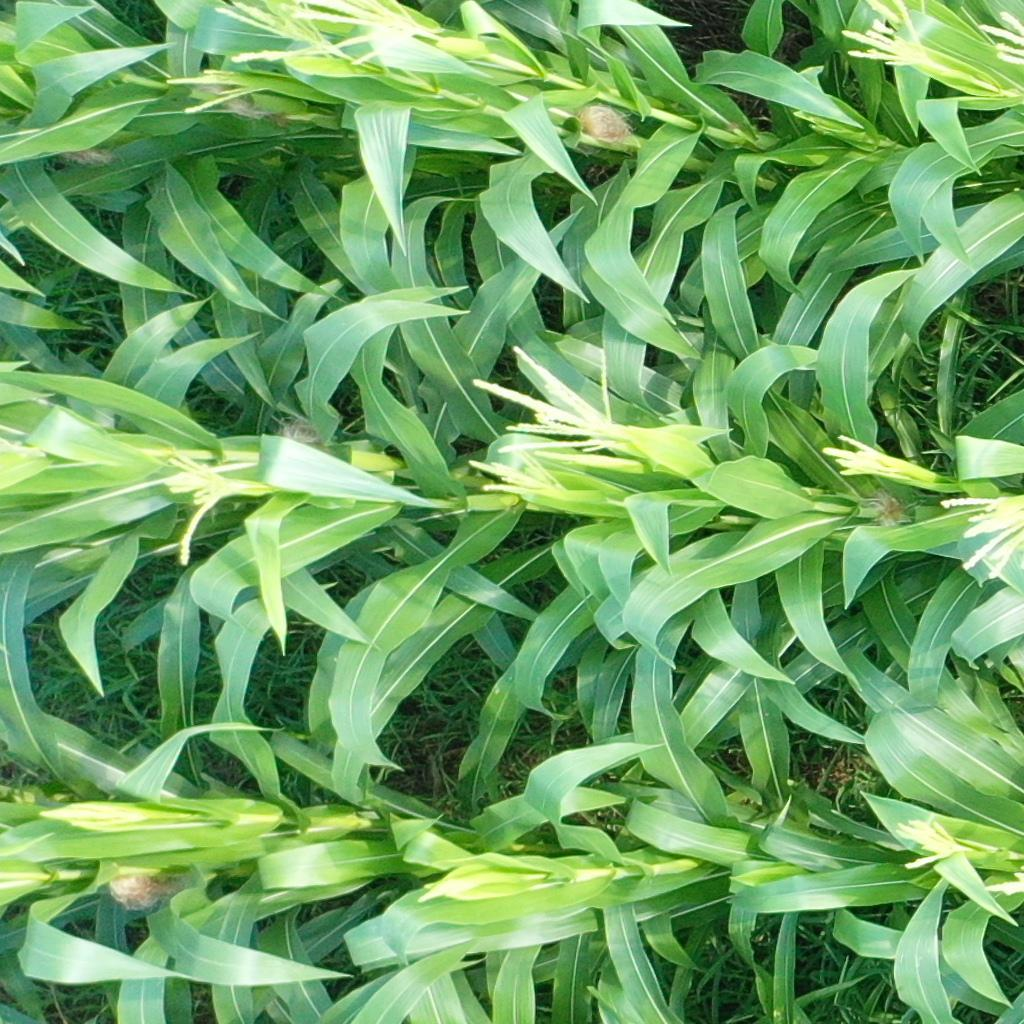Tassel: (466, 337, 626, 457), (154, 445, 257, 568), (282, 1, 435, 66), (214, 1, 341, 71), (834, 1, 948, 77), (935, 486, 1024, 583), (462, 438, 565, 502), (167, 64, 255, 123), (31, 793, 152, 833), (897, 812, 969, 868), (818, 430, 902, 477), (969, 8, 1024, 62), (415, 872, 479, 907), (1, 426, 47, 463), (983, 865, 1024, 896)
